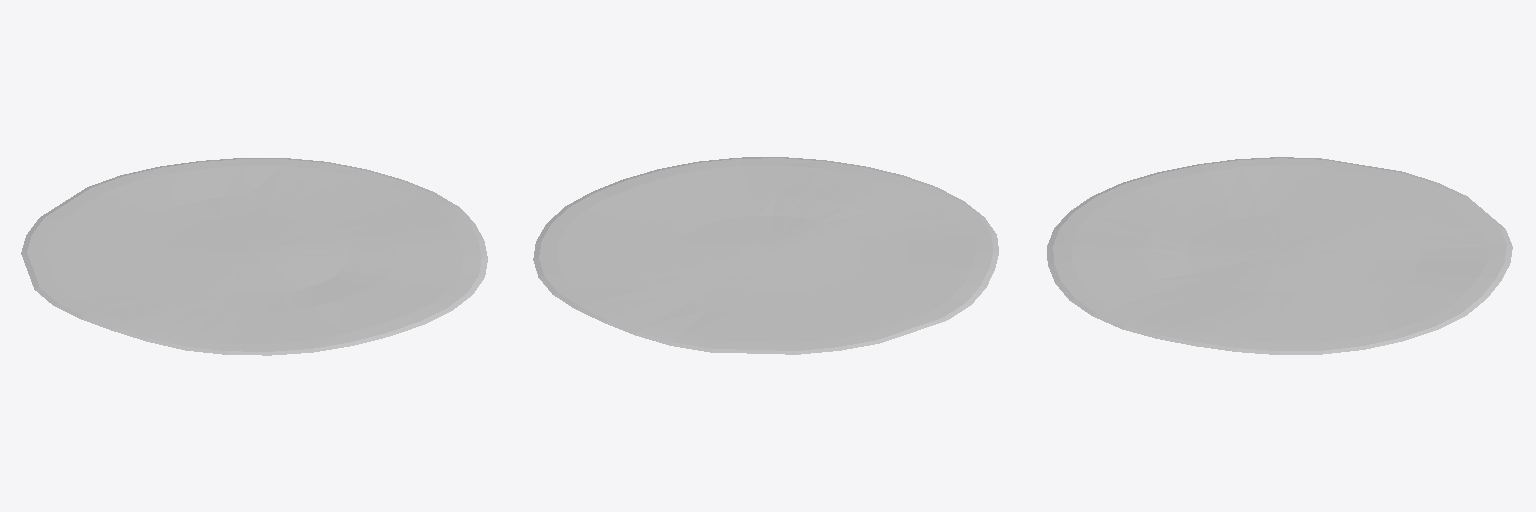
File: CircleRug.obj
The picture shows the model from 3 angles: view 1: azimuth 30°, elevation 25°; view 2: azimuth 150°, elevation 25°; view 3: azimuth 270°, elevation 25°; orthographic projection.
Visible parts, largest first — view 1: CircleRug; view 2: CircleRug; view 3: CircleRug.
Part boxes in pixels (x1,y1,x2,y2): CircleRug: (21, 158, 487, 355); CircleRug: (533, 157, 998, 354); CircleRug: (1047, 157, 1512, 354).
Bounding box in the file's own units: 25.14 × 0.31 × 24.99.